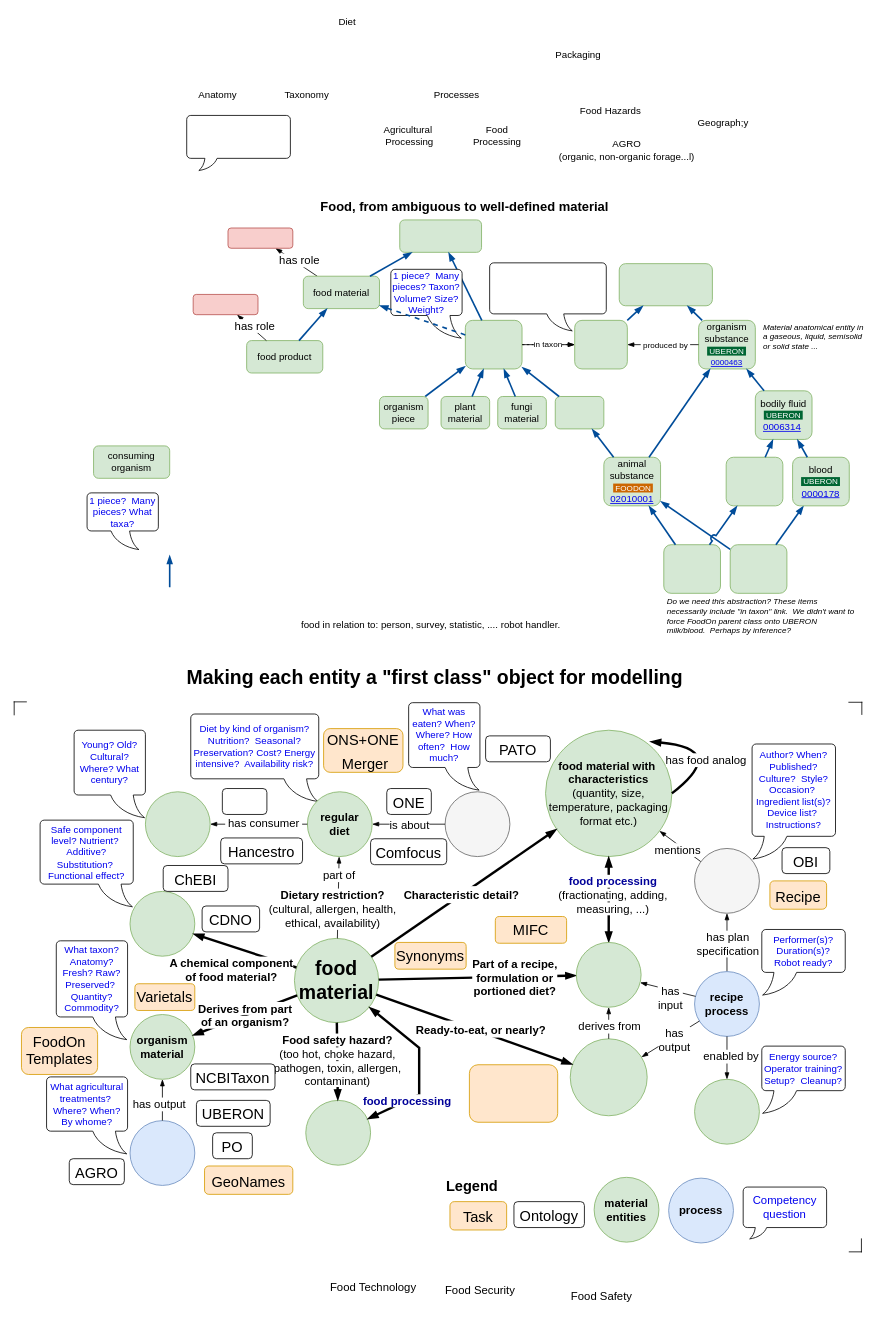
Some shapes in this 885 by 1318 pixel diagram are drawn without their labels. The shapes that lost their labels are listed below. From the top down, each one's box as (x1, y1, x2, y2) in pixels, then its label:
(186, 115, 290, 171): how old? developmental stage? fetus? seed?
(227, 227, 293, 248): food role
(399, 219, 482, 252): material entity BFO 0000040
(192, 294, 258, 315): product role
(489, 262, 606, 331): Age? Developmental stage? Fetus? Seed? Where? When? Weight? Size?
(618, 263, 712, 306): material anatomical entity UBERON 0000465
(465, 320, 522, 369): organism material FOODON 03420116
(574, 320, 627, 369): organism COB 0000022
(554, 396, 604, 429): animal material
(725, 456, 783, 506): milk UBERON 0001913
(663, 544, 720, 593): animal milk FOODON 02010012
(729, 544, 787, 593): animal blood FOODON 02010014
(222, 788, 267, 814): ONS
(145, 791, 210, 857): food consumer
(444, 791, 510, 857): food survey
(694, 848, 759, 913): recipe document
(129, 891, 195, 956): chemical
(576, 942, 641, 1007): food ingredient
(469, 1064, 558, 1122): Food Product Hierarchy
(569, 1038, 647, 1116): dish (includes beverages)
(694, 1079, 759, 1144): device
(129, 1120, 195, 1185): agricultural practice
(305, 1100, 371, 1165): hazardous food
